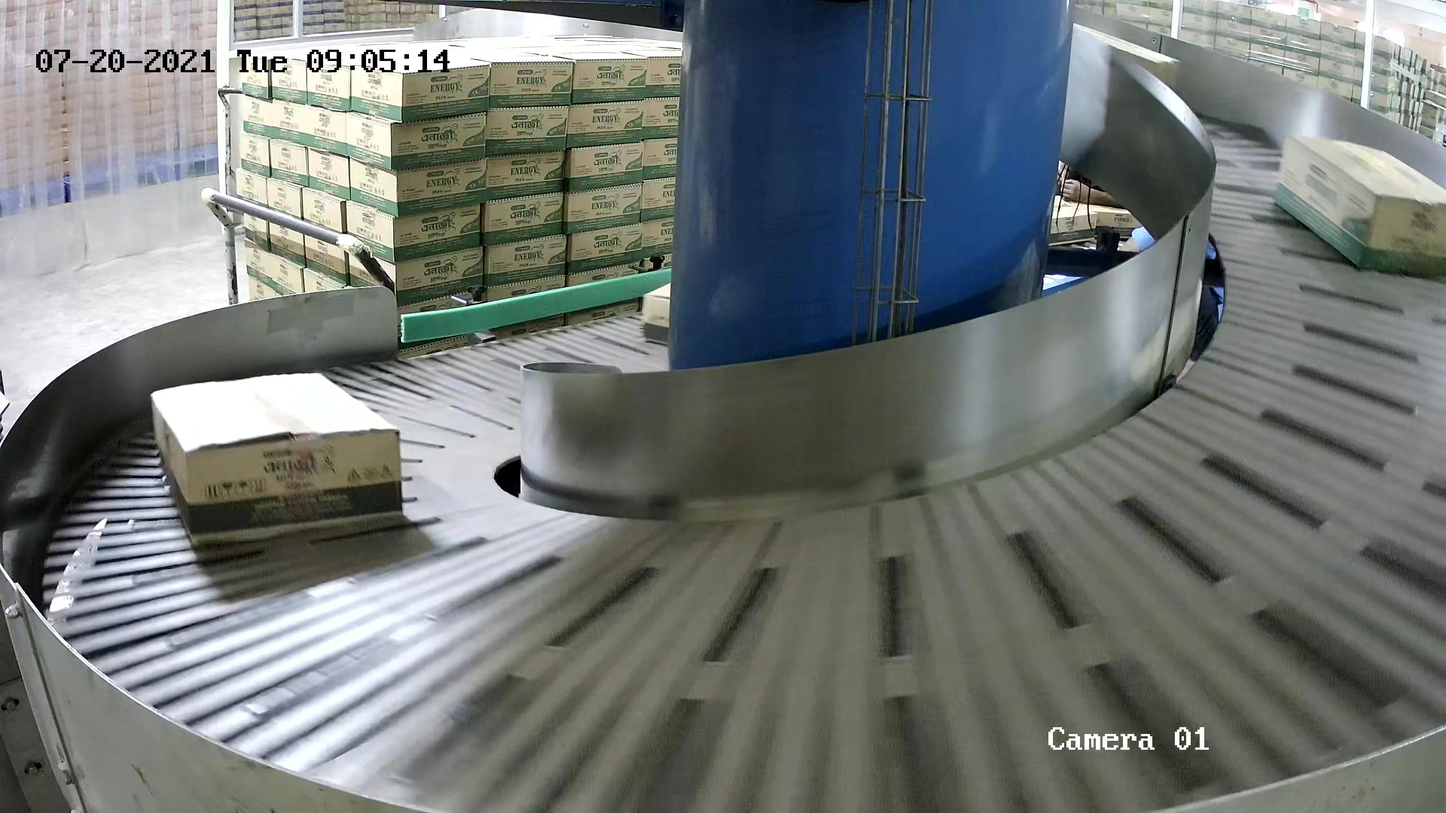Box: (151, 371, 404, 551), (1272, 133, 1446, 281)
